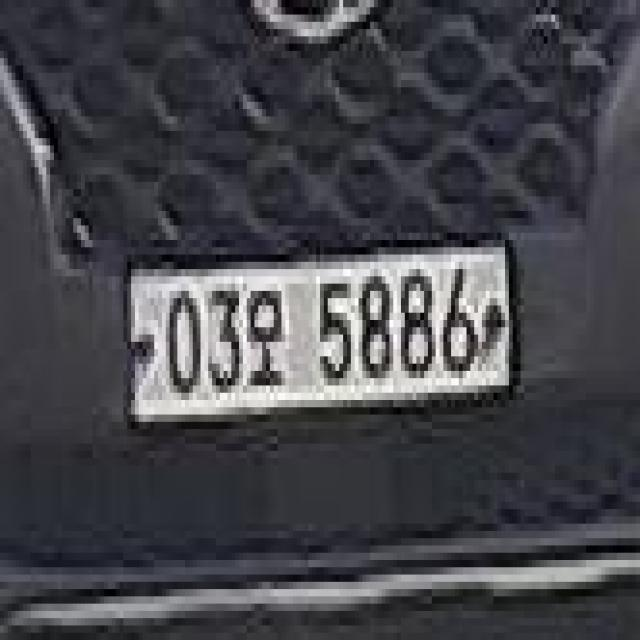illegal_plate: (122, 232, 522, 433)
